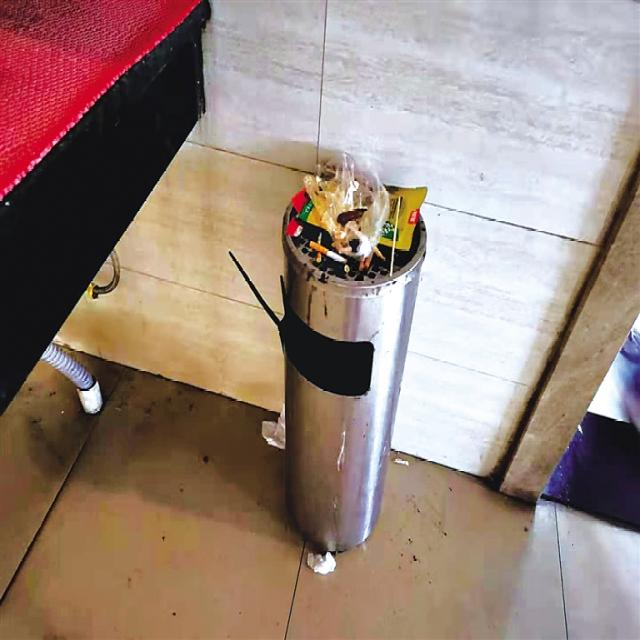overflow: (260, 150, 427, 576)
